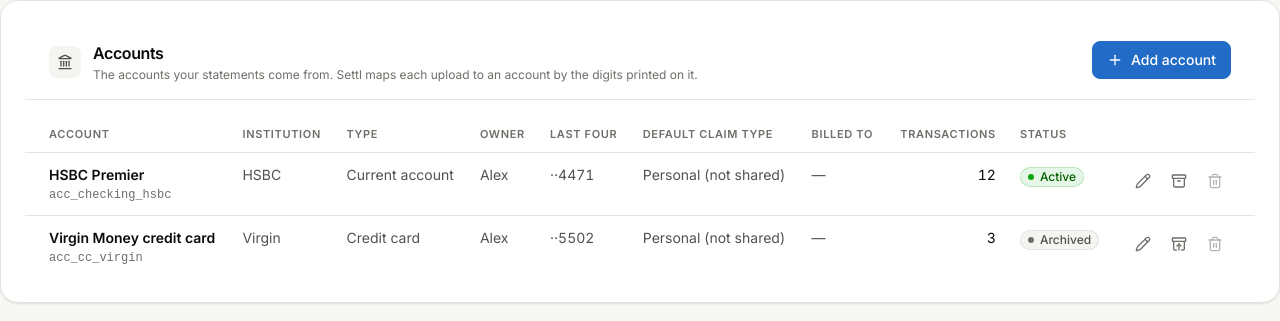
<AccountsPanel /> › archives with is_active:false and restores with is_active:true
Click the button named "Archive HSBC Premier".
click(1179, 181)  # box [1163,165,1195,197]
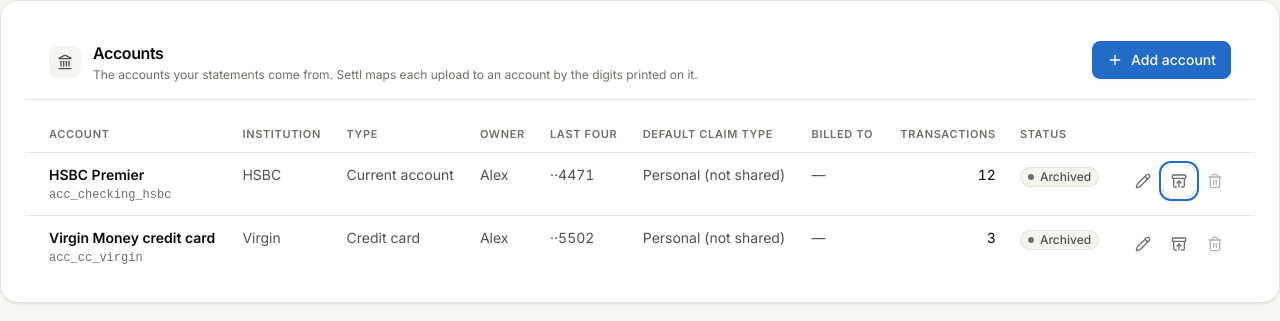
Now the text "Archived" is shown, box [1020,167,1099,187]
Now the button named "Restore HSBC Premier" is shown, box [1163,165,1195,197]
Click the button named "Restore Virgin Money credit card".
click(1179, 244)  # box [1163,228,1195,260]
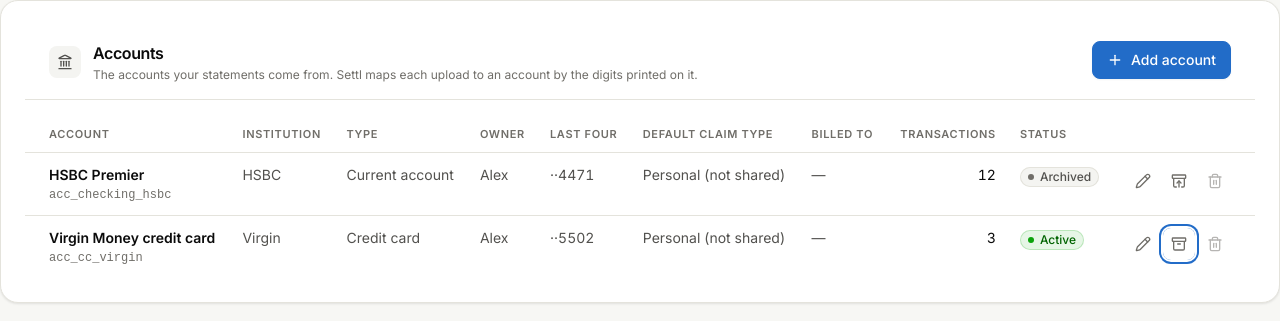
Now the button named "Archive Virgin Money credit card" is shown, box [1163,228,1195,260]
